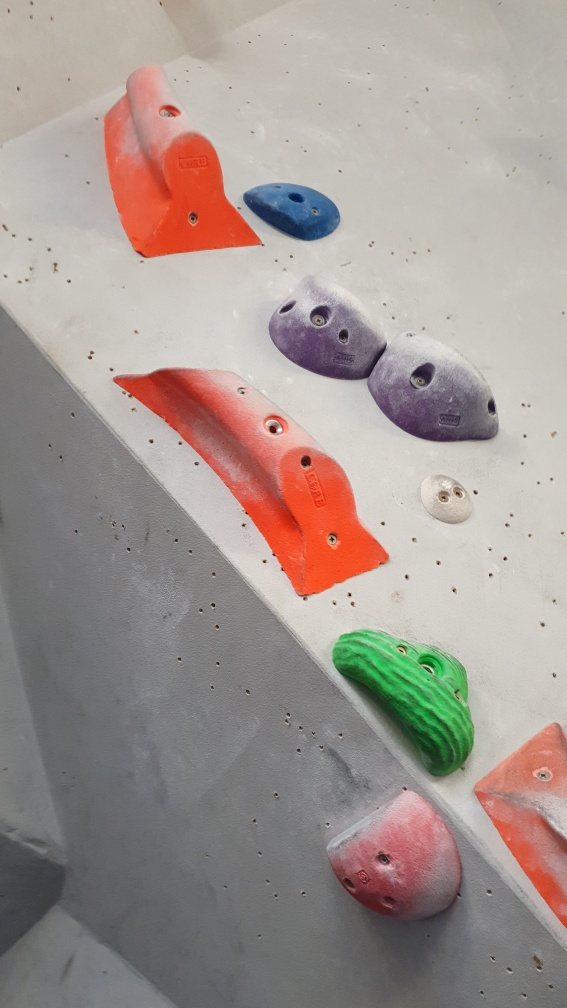Crimp: (245, 178, 345, 243)
Jug: (335, 624, 477, 778), (362, 331, 502, 444), (270, 271, 388, 379)
Pinch: (109, 364, 392, 599), (94, 64, 263, 257), (471, 720, 567, 931)
